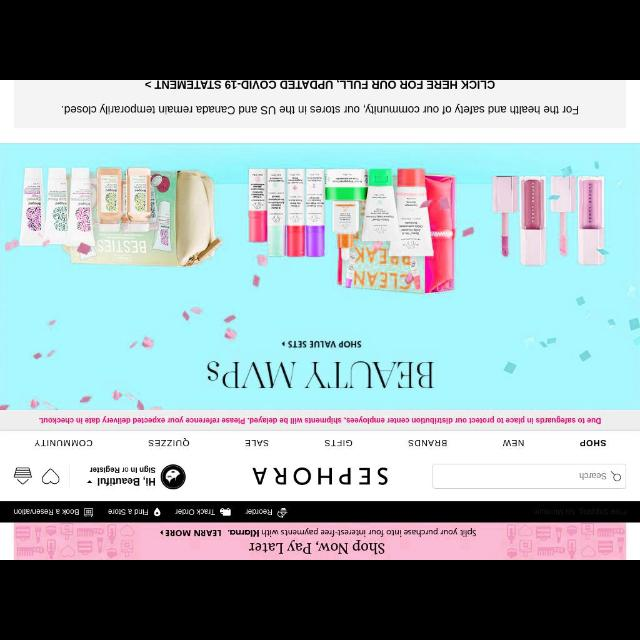icon: (12, 468, 34, 486), (40, 468, 61, 486), (277, 507, 289, 519), (84, 507, 95, 518), (220, 508, 234, 516), (611, 470, 621, 480), (153, 507, 163, 517), (86, 478, 94, 486)
iframe: (14, 526, 626, 558)
image: (1, 144, 639, 410), (161, 466, 185, 490)
input: (432, 464, 624, 488)
multitab: (1, 434, 639, 458), (8, 503, 290, 521)
text: (40, 418, 602, 426), (63, 106, 579, 114), (251, 465, 391, 487), (144, 82, 496, 90), (98, 477, 156, 489), (89, 465, 155, 475), (14, 508, 78, 516), (108, 507, 148, 518), (34, 439, 92, 445), (148, 439, 190, 447), (500, 438, 526, 450), (243, 506, 274, 516), (175, 508, 213, 516), (579, 438, 609, 448), (323, 438, 352, 448), (409, 440, 448, 446), (580, 471, 608, 479), (244, 439, 270, 447)
toolbar: (1, 458, 637, 499)
